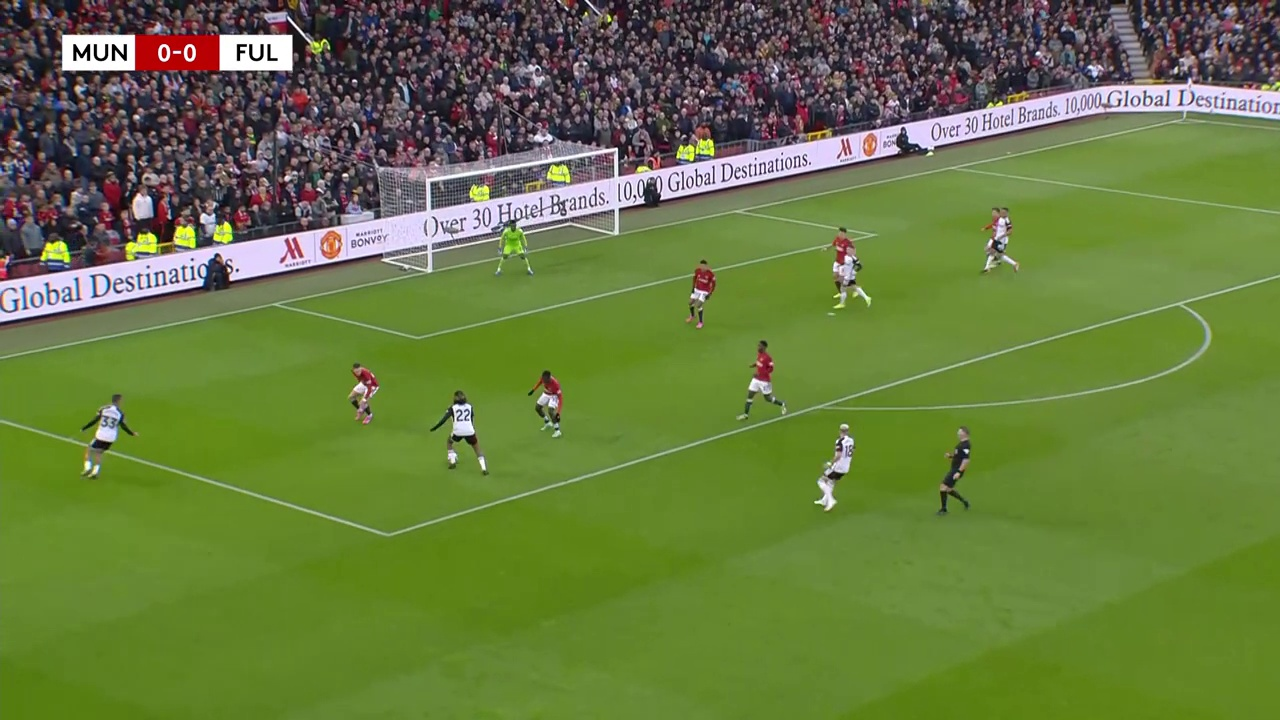ball: (595, 475, 621, 497)
